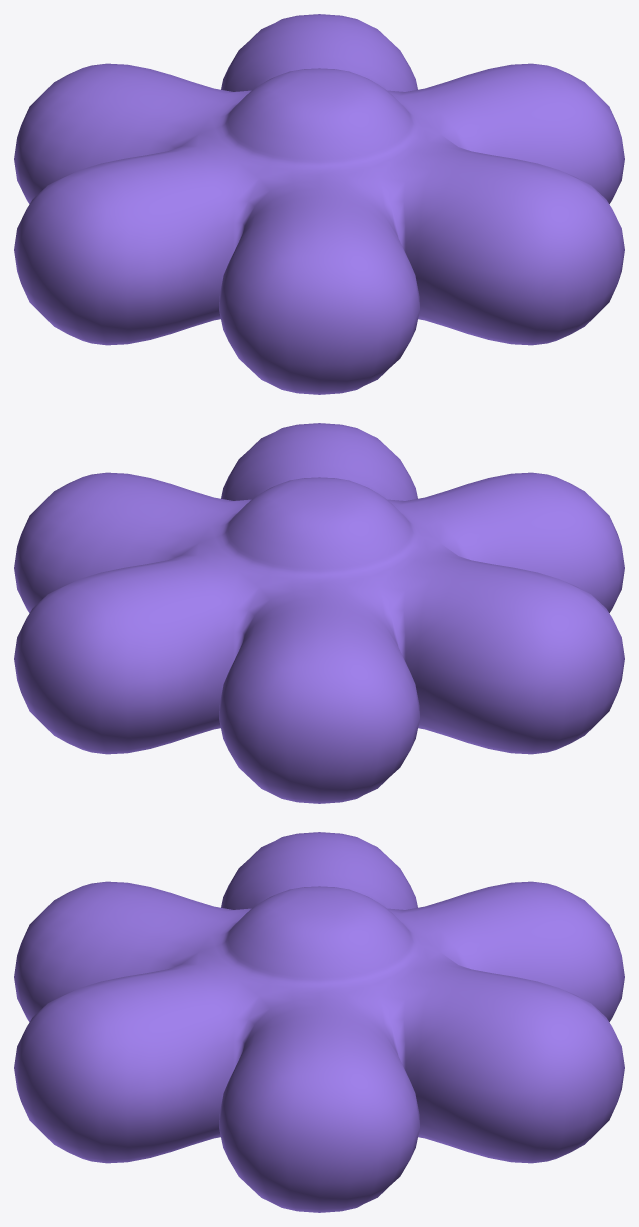
Rendered from Flower.glb.
3 renders of one model, top to bottom at view 1: azimuth 30°, elevation 25°; view 2: azimuth 150°, elevation 25°; view 3: azimuth 270°, elevation 25°, orthographic.
Visible parts, largest first — view 1: Flower; view 2: Flower; view 3: Flower.
Boxes of the visible parts, x1,y1,x2,y2 form: Flower: (14,14,624,394); Flower: (14,423,624,803); Flower: (14,832,624,1212).
Bounding box in the file's own units: 17.03 × 6.81 × 15.61.
